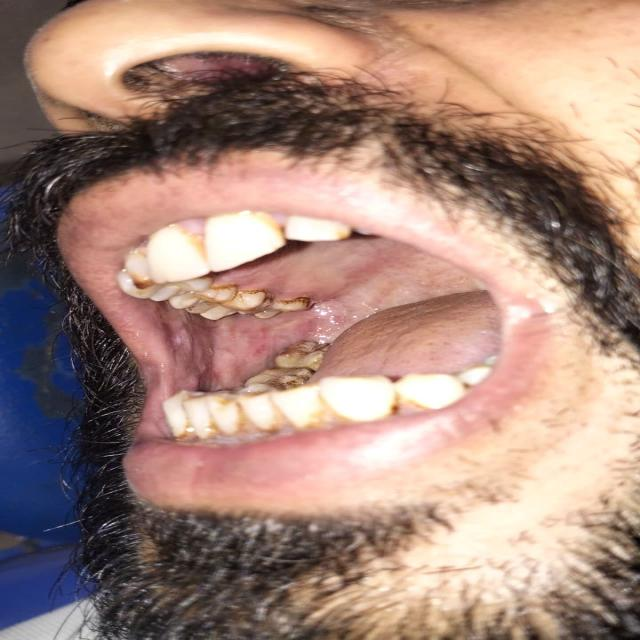leukoplakia-like-detection: (155, 280, 408, 389)
processing_area: (151, 240, 498, 384)
